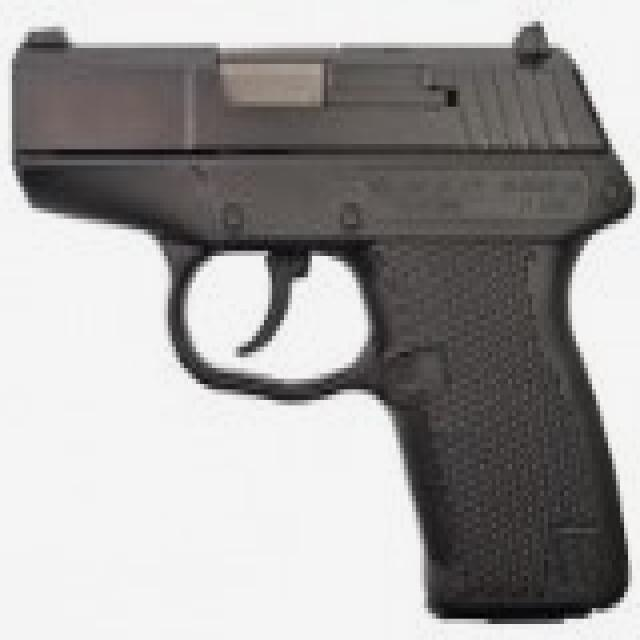pistol: (16, 21, 628, 614)
